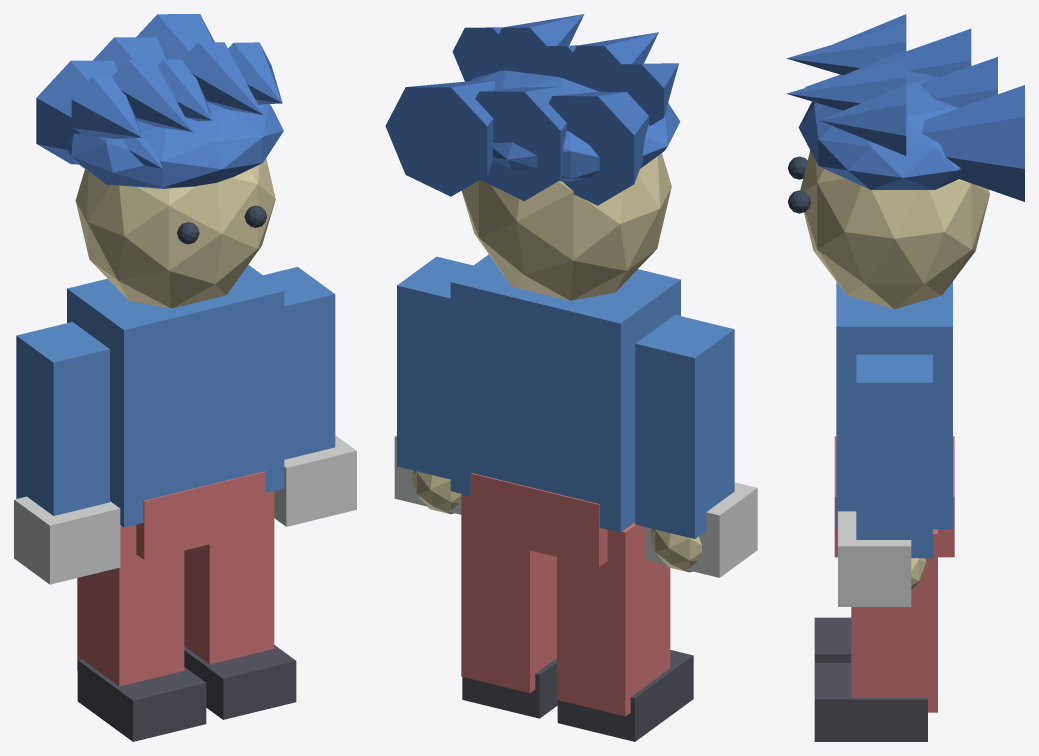
The model's file is sonic.glb.
3 renders of one model, left to right at view 1: azimuth 30°, elevation 25°; view 2: azimuth 150°, elevation 25°; view 3: azimuth 270°, elevation 25°, orthographic. The views are drawn at different scales.
Parts seen in each view (by area): view 1: part_000, part_010, part_002, part_004, part_008, part_013, part_006, part_001, part_022, part_005, part_009, part_023 (+8 smaller); view 2: part_000, part_002, part_010, part_004, part_008, part_006, part_021, part_001, part_019, part_020, part_013, part_005 (+10 smaller); view 3: part_010, part_006, part_000, part_008, part_013, part_021, part_009, part_023, part_018, part_015, part_017, part_020 (+4 smaller).
Part boxes in pixels (left/top/right/bottom): part_000: left=67, top=265, right=284, bottom=527; part_010: left=75, top=158, right=275, bottom=308; part_002: left=16, top=322, right=109, bottom=515; part_004: left=77, top=525, right=184, bottom=686; part_008: left=184, top=491, right=274, bottom=664; part_013: left=64, top=102, right=283, bottom=188; part_006: left=263, top=267, right=335, bottom=459; part_001: left=136, top=471, right=265, bottom=560; part_022: left=14, top=496, right=120, bottom=584; part_005: left=77, top=659, right=206, bottom=741; part_009: left=184, top=645, right=296, bottom=719; part_023: left=274, top=435, right=356, bottom=526; part_000: left=450, top=254, right=680, bottom=532; part_002: left=635, top=314, right=734, bottom=538; part_010: left=461, top=153, right=671, bottom=300; part_004: left=557, top=522, right=670, bottom=716; part_008: left=461, top=494, right=556, bottom=693; part_006: left=397, top=256, right=472, bottom=479; part_021: left=385, top=80, right=495, bottom=196; part_001: left=470, top=473, right=607, bottom=566; part_019: left=548, top=91, right=648, bottom=205; part_020: left=475, top=86, right=566, bottom=201; part_013: left=470, top=70, right=680, bottom=181; part_005: left=557, top=650, right=693, bottom=741; part_010: left=800, top=150, right=989, bottom=309; part_006: left=856, top=354, right=932, bottom=558; part_000: left=836, top=281, right=952, bottom=529; part_008: left=851, top=529, right=937, bottom=712; part_013: left=798, top=70, right=960, bottom=189; part_021: left=921, top=85, right=1024, bottom=201; part_009: left=814, top=663, right=927, bottom=741; part_023: left=838, top=511, right=911, bottom=606; part_018: left=820, top=85, right=906, bottom=155; part_015: left=786, top=22, right=906, bottom=75; part_017: left=786, top=58, right=906, bottom=110; part_020: left=920, top=57, right=997, bottom=107.
Size of the model in its own units: 0.9483 by 1.89 by 0.6221.
